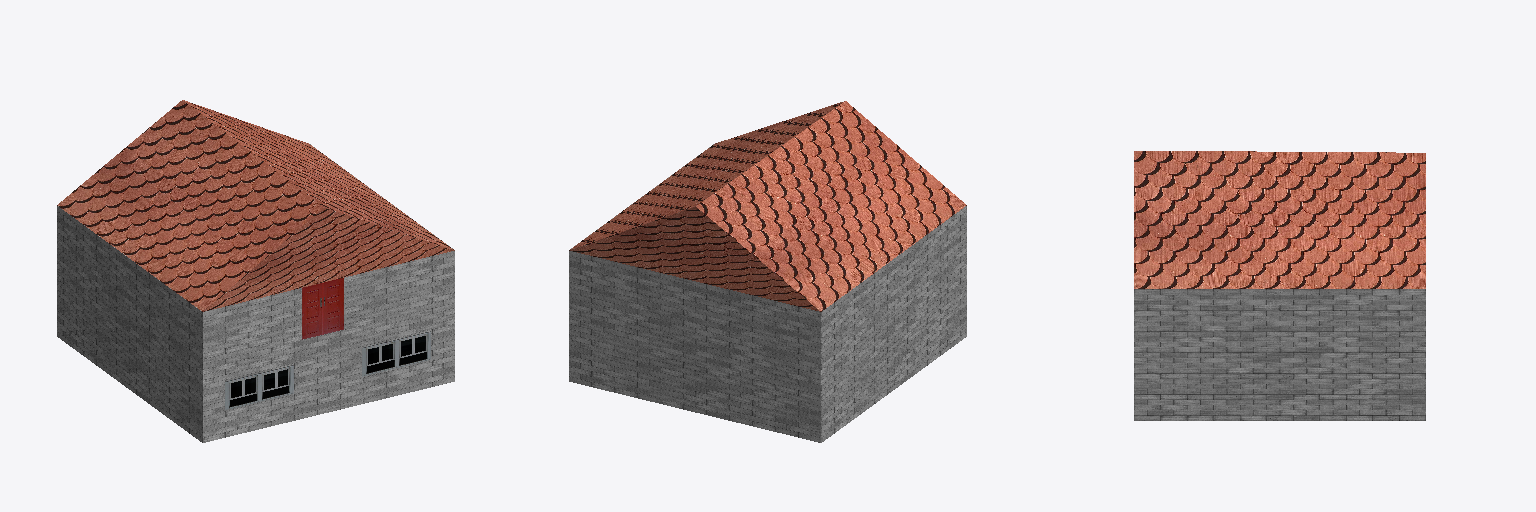
The picture shows the model from 3 angles: view 1: azimuth 30°, elevation 25°; view 2: azimuth 150°, elevation 25°; view 3: azimuth 270°, elevation 25°; orthographic projection.
Parts seen in each view (by area): view 1: Box001, Box002; view 2: Box001, Box002; view 3: Box002, Box001.
Part boxes in pixels (x1,y1,x2,y2): Box001: (57, 144, 454, 442); Box002: (57, 100, 454, 311); Box001: (569, 144, 966, 442); Box002: (569, 101, 966, 311); Box002: (1134, 151, 1425, 288); Box001: (1134, 289, 1425, 420).
Size of the model in its own units: 141 by 110 by 141.
Materials: 3 (3 with a texture image).